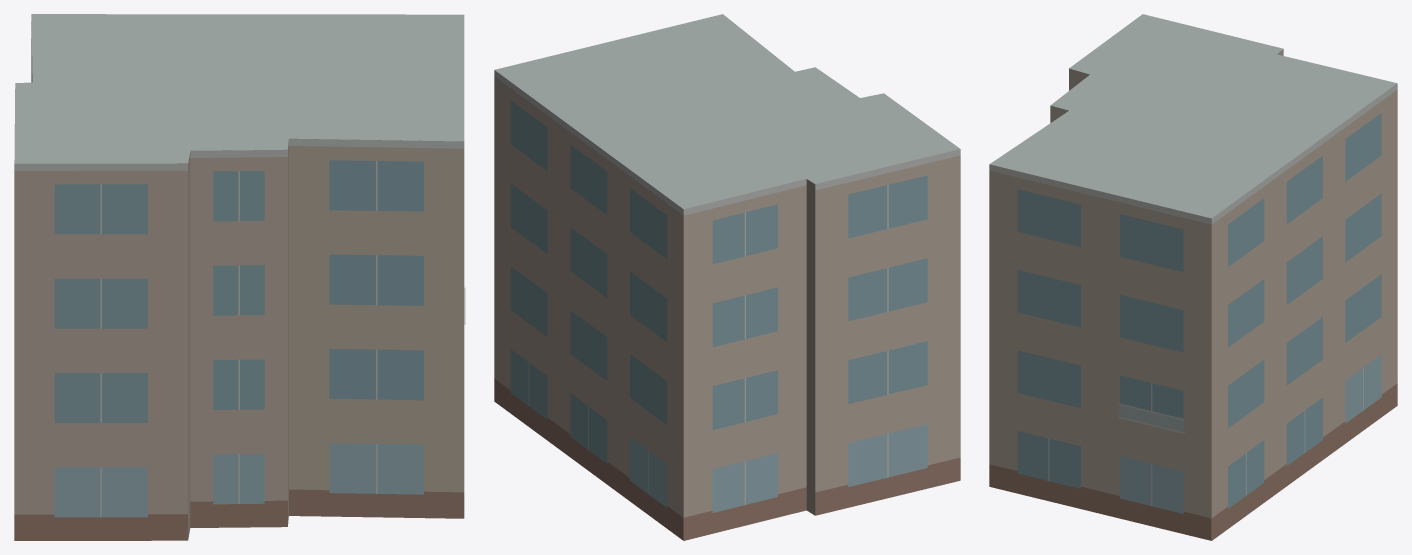
The model's file is survey-upis-33037766.glb.
The picture shows the model from 3 angles, left to right: view 1: azimuth 30°, elevation 25°; view 2: azimuth 150°, elevation 25°; view 3: azimuth 270°, elevation 25°; orthographic projection. The views are drawn at different scales.
Visible parts, largest first — view 1: survey-upis-33037766.tmp; view 2: survey-upis-33037766.tmp; view 3: survey-upis-33037766.tmp.
Part boxes in pixels (x1,y1,x2,y2): survey-upis-33037766.tmp: [14, 14, 465, 540]; survey-upis-33037766.tmp: [494, 14, 960, 540]; survey-upis-33037766.tmp: [989, 14, 1397, 540].
Size of the model in its own units: 17.28 by 12.7 by 14.58.
